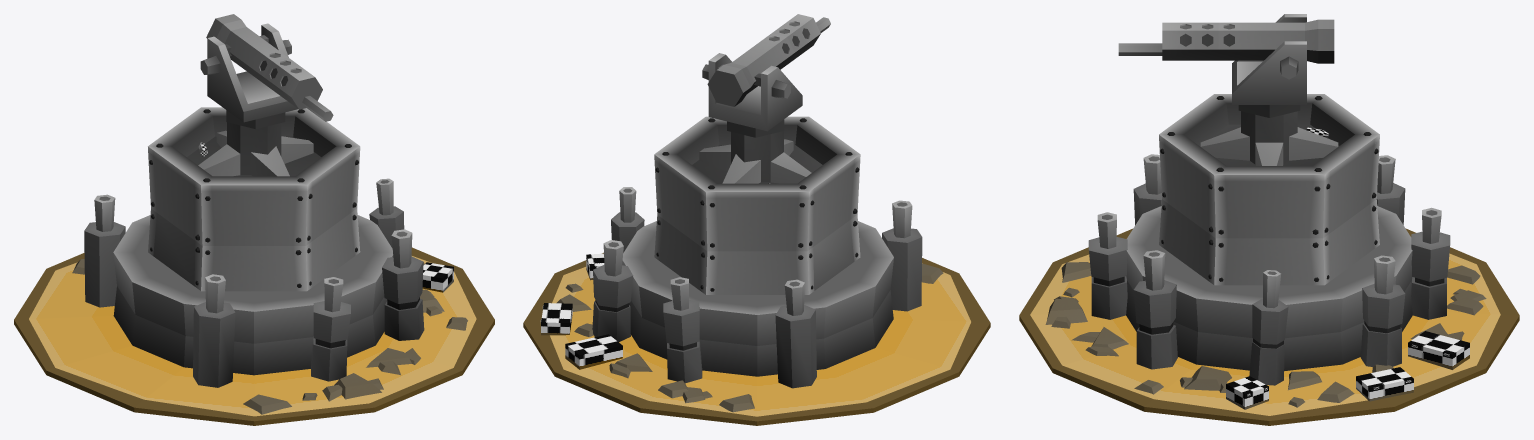
File: Tower 1.fbx
The picture shows the model from 3 angles, left to right: view 1: azimuth 30°, elevation 25°; view 2: azimuth 150°, elevation 25°; view 3: azimuth 270°, elevation 25°; orthographic projection. The views are drawn at different scales.
Parts seen in each view (by area): view 1: tower_fast_1, tower_fast_2, tower_fast_3; view 2: tower_fast_1, tower_fast_2, tower_fast_3; view 3: tower_fast_1, tower_fast_2, tower_fast_3.
Boxes of the visible parts, <box> form: tower_fast_1: <box>84,107,424,387</box>; tower_fast_2: <box>14,247,494,425</box>; tower_fast_3: <box>200,14,333,129</box>; tower_fast_1: <box>592,116,922,388</box>; tower_fast_2: <box>523,252,990,425</box>; tower_fast_3: <box>702,14,830,137</box>; tower_fast_1: <box>1088,94,1450,385</box>; tower_fast_2: <box>1019,228,1519,425</box>; tower_fast_3: <box>1118,14,1334,117</box>.
Bounding box in the file's own units: 100 × 65.7 × 100.
Materials: 2 (2 with a texture image).
